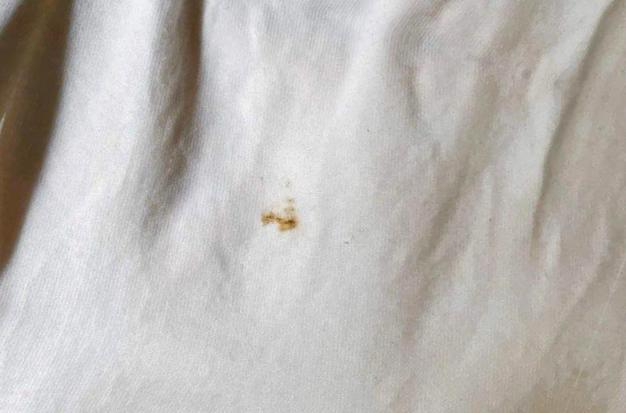stain: (253, 195, 306, 235)
